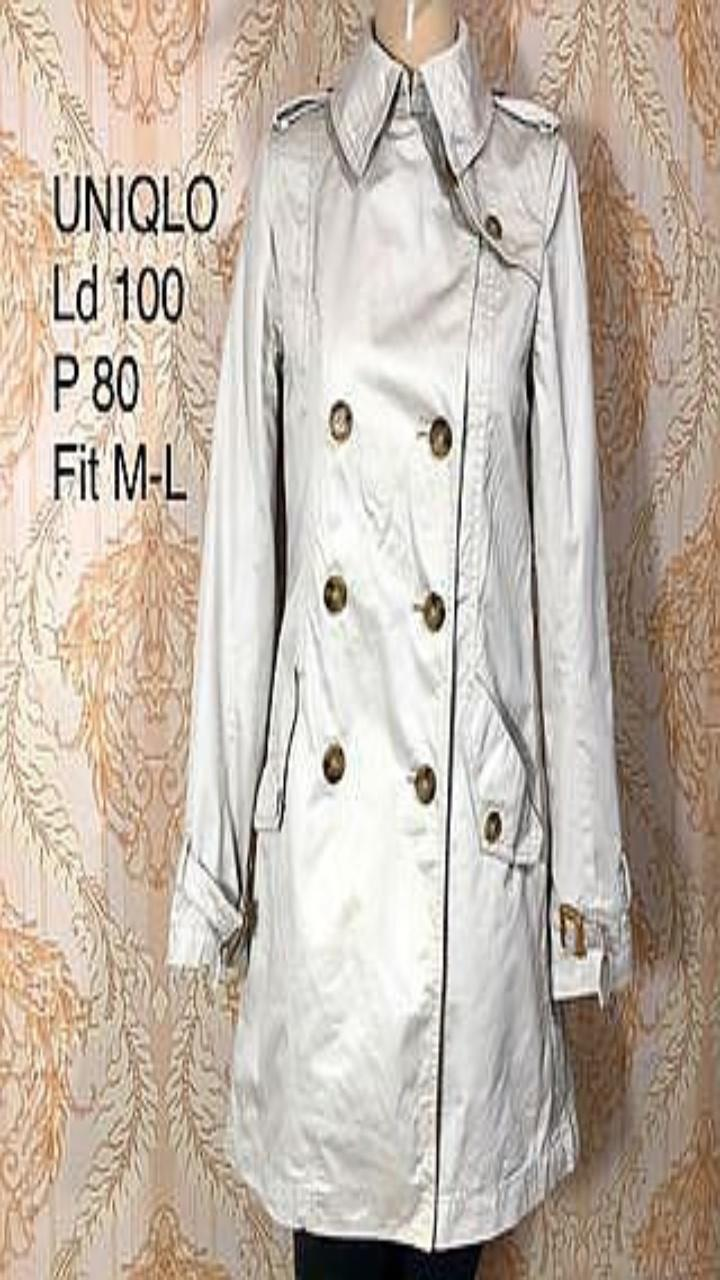Coat: (168, 17, 632, 1249)
Jeans: (293, 1229, 480, 1279)
